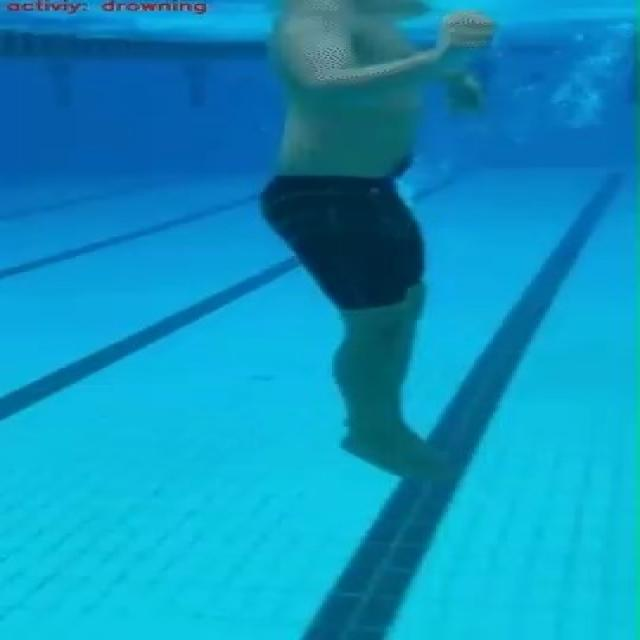Drowning: (240, 0, 525, 483)
